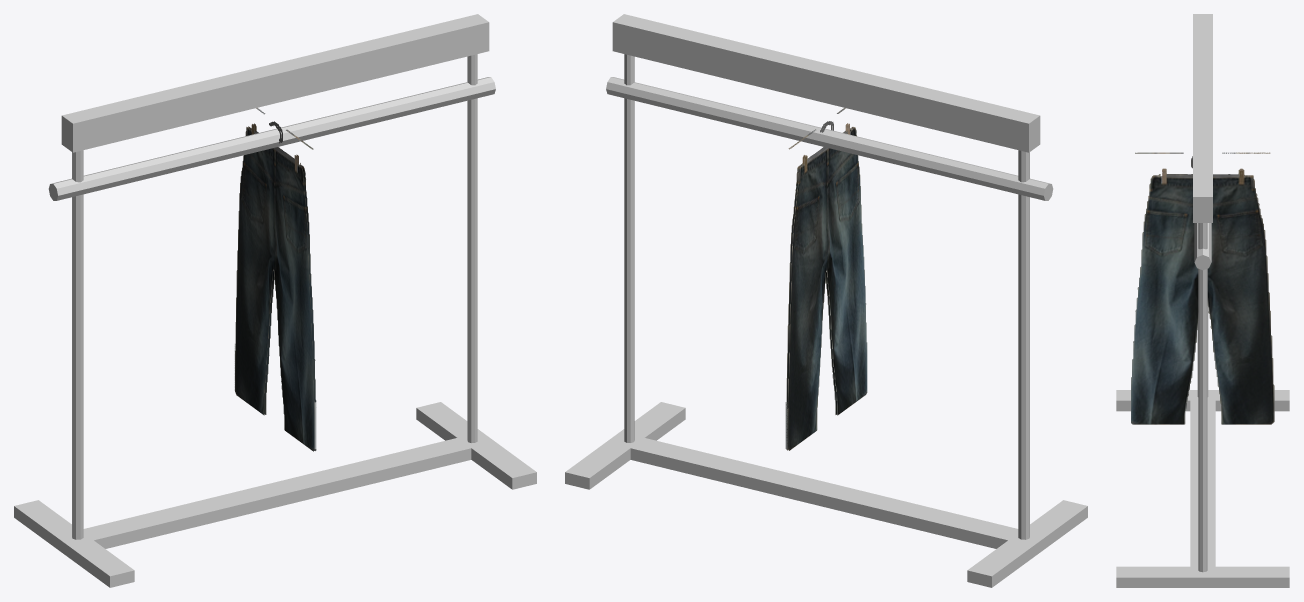
Rendered from ClothHanger.fbx.
3 renders of one model, left to right at view 1: azimuth 30°, elevation 25°; view 2: azimuth 150°, elevation 25°; view 3: azimuth 270°, elevation 25°, orthographic. The views are drawn at different scales.
Parts seen in each view (by area): view 1: ClothHanger, HangedCloth; view 2: ClothHanger, HangedCloth; view 3: HangedCloth, ClothHanger.
Boxes of the visible parts, <box> form: ClothHanger: <box>14,14,536,587</box>; HangedCloth: <box>234,108,316,451</box>; ClothHanger: <box>565,14,1087,587</box>; HangedCloth: <box>785,108,867,450</box>; HangedCloth: <box>1131,152,1274,424</box>; ClothHanger: <box>1116,14,1289,587</box>.
Bounding box in the file's own units: 631 × 595 × 240.
